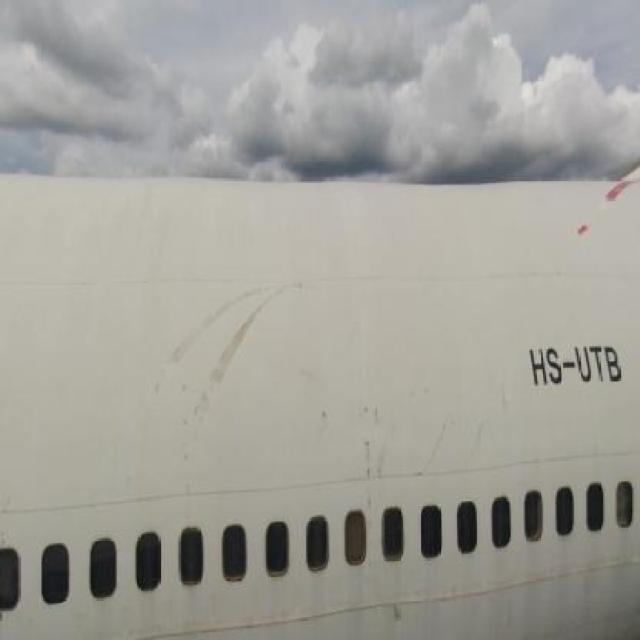Scartch: (351, 405, 386, 498), (386, 593, 417, 636)
